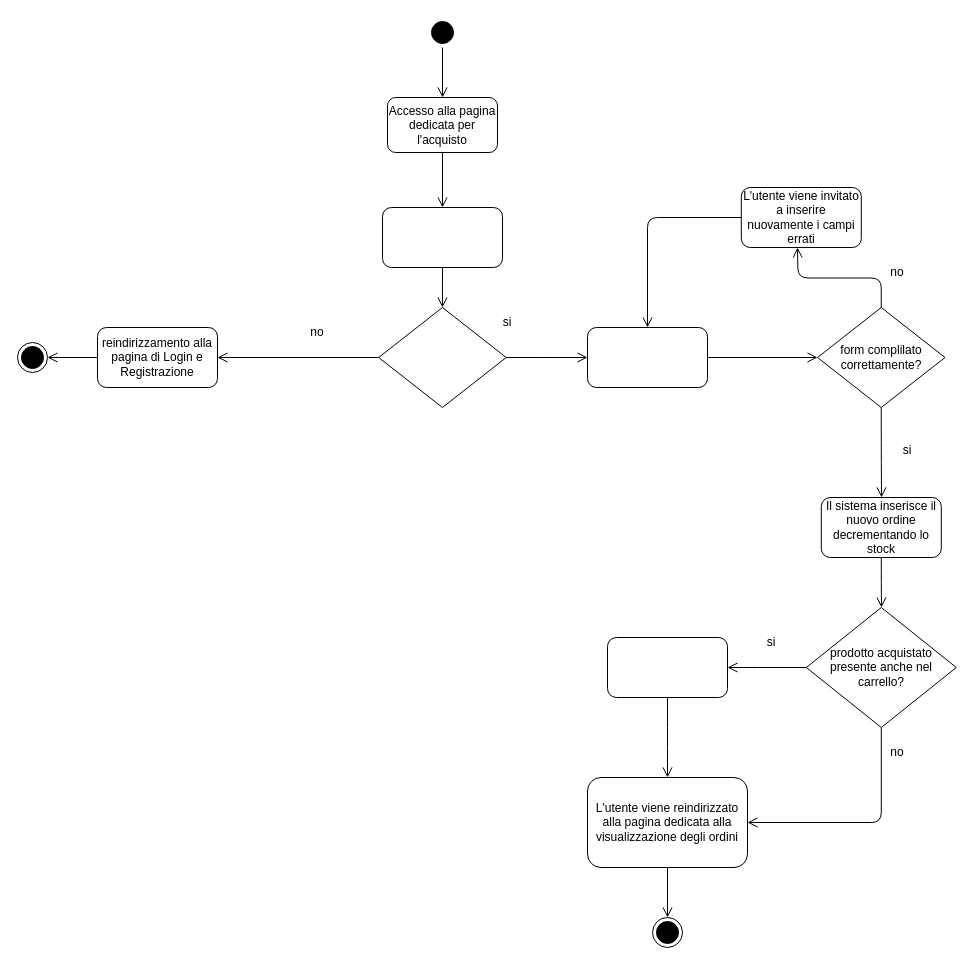
Image size: 974x965. Some labels were removed from this diagram. The centre of each missing label's shape, as x and y in pixels:
"Il prodotto viene rimosso dal carrello" goes at (x=667, y=667).
"L'utente compila il form con i dati di spedizione e pagamento" goes at (x=647, y=357).
"L'utente una volta individuato il prodotto da acquistare preme su acquista" goes at (x=442, y=237).
"l'utente è autenticato?" goes at (x=442, y=357).
